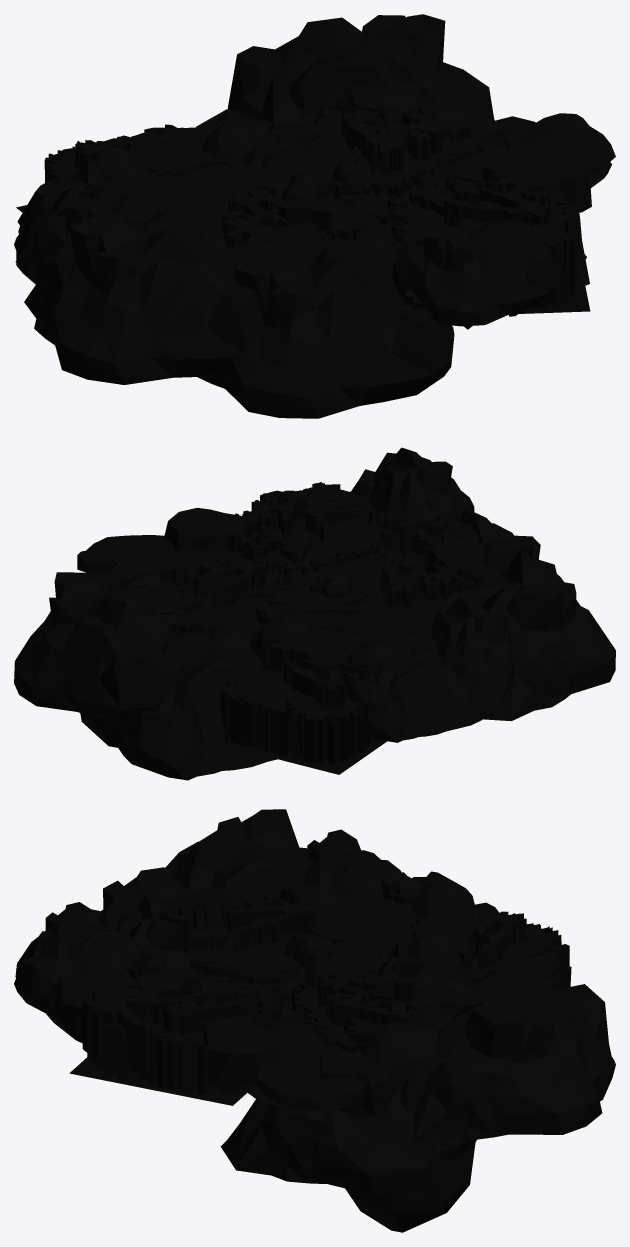
File: Landscape.fbx
The picture shows the model from 3 angles, top to bottom: view 1: azimuth 30°, elevation 25°; view 2: azimuth 150°, elevation 25°; view 3: azimuth 270°, elevation 25°; orthographic projection. The views are drawn at different scales.
Parts seen in each view (by area): view 1: Landscape; view 2: Landscape; view 3: Landscape.
Boxes of the visible parts, bbox=[...] form: Landscape: bbox=[14, 14, 615, 418]; Landscape: bbox=[14, 447, 615, 780]; Landscape: bbox=[14, 809, 615, 1232].
Bounding box in the file's own units: 170796 × 72128 × 166523.
Materials: 1 (1 with a texture image).
